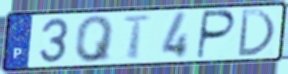3: (38, 16, 70, 65)
4: (159, 9, 191, 62)
D: (235, 8, 277, 58)
P: (194, 9, 238, 61)
Q: (74, 14, 116, 64)
T: (121, 14, 154, 61)
